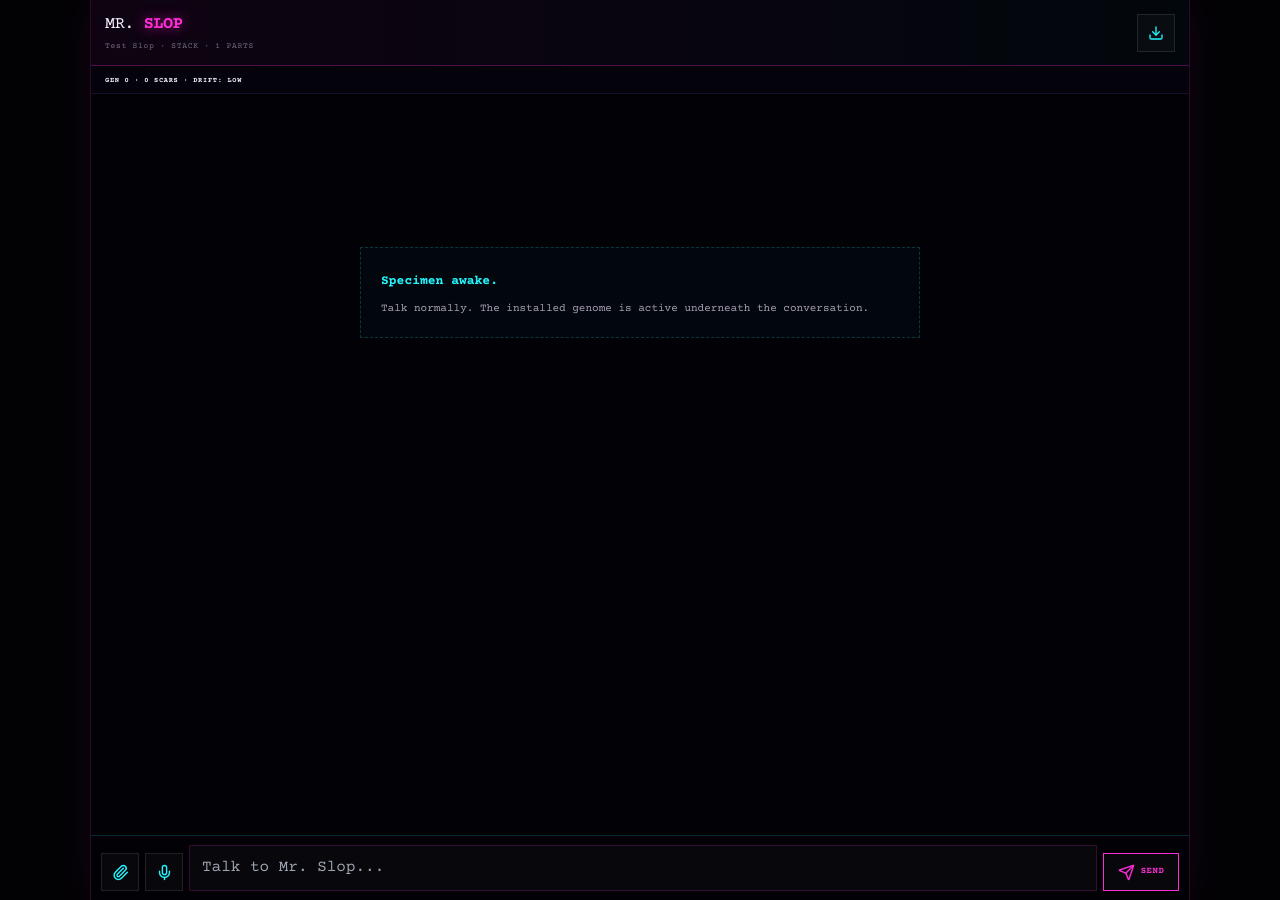
Test: MrSlopTerminal transport errors › shows the useful server error instead of only saying the turn failed
Type "hello" into the text box with placeholder "Talk to Mr. Slop..." at (643, 868), box [189,845,1097,891]
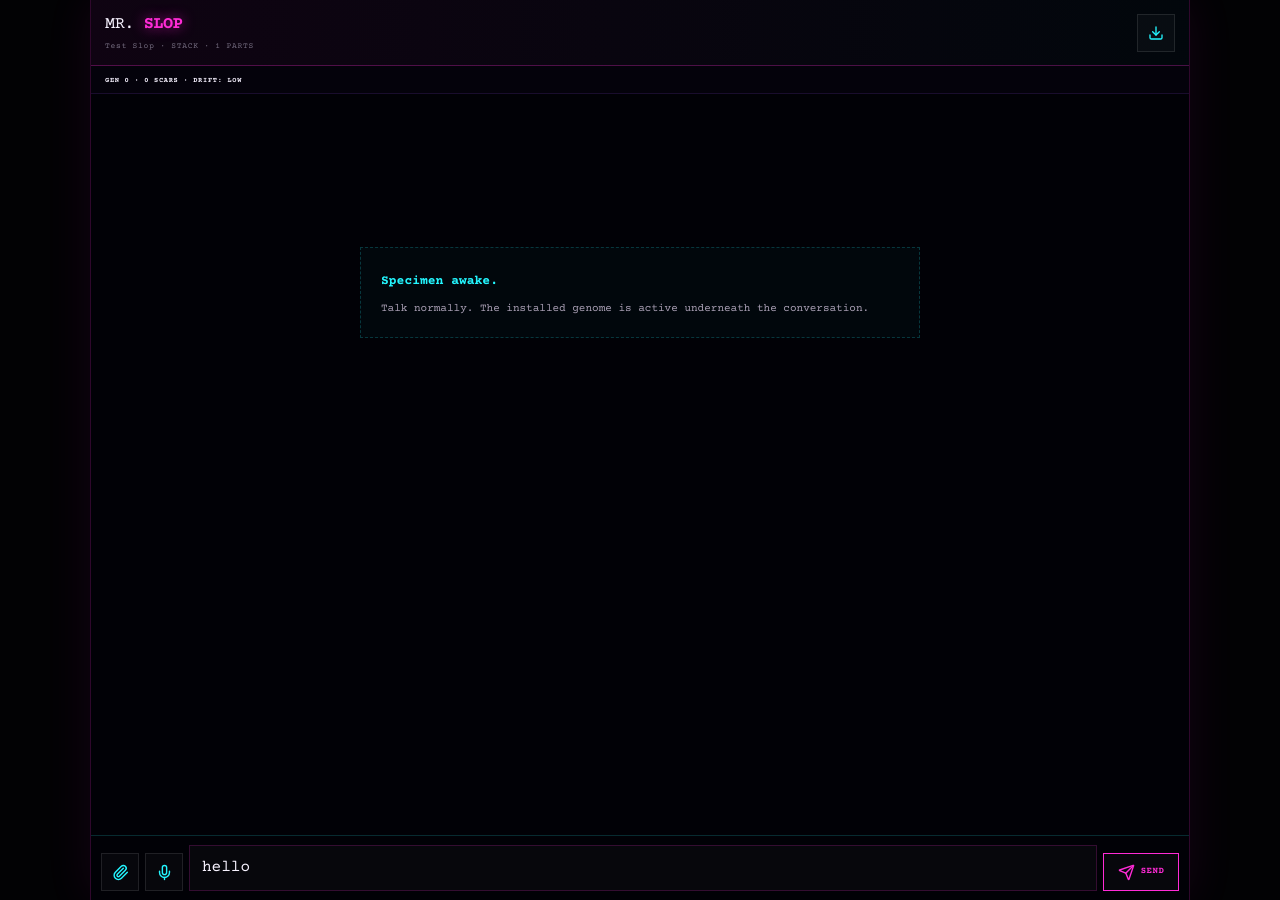
Click the button "SEND" at (1141, 872), box [1103,853,1179,891]
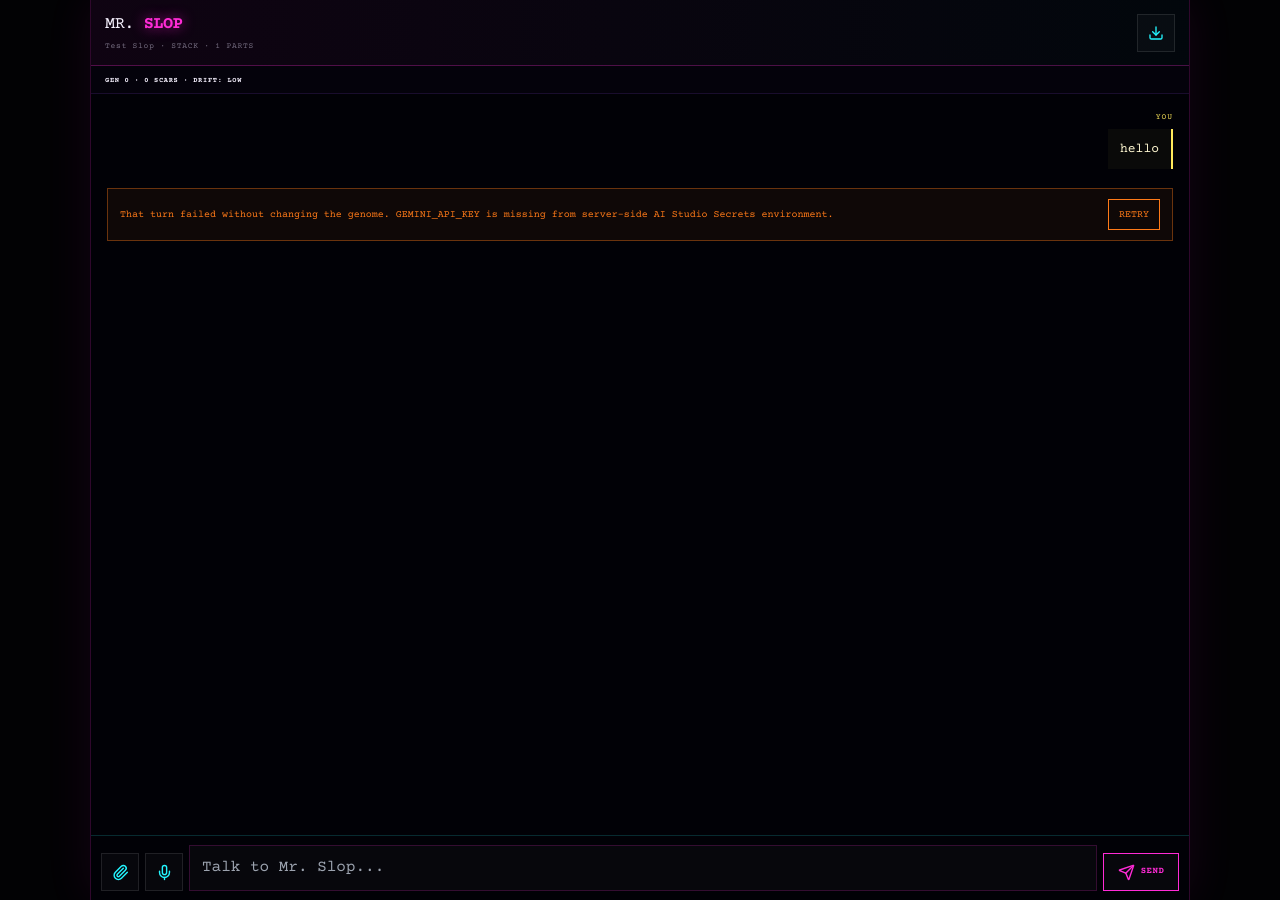
Check: the text "GEMINI_API_KEY is missing" is shown, box [120,209,834,220]
Check: the button "RETRY" is shown, box [1108,199,1160,230]
